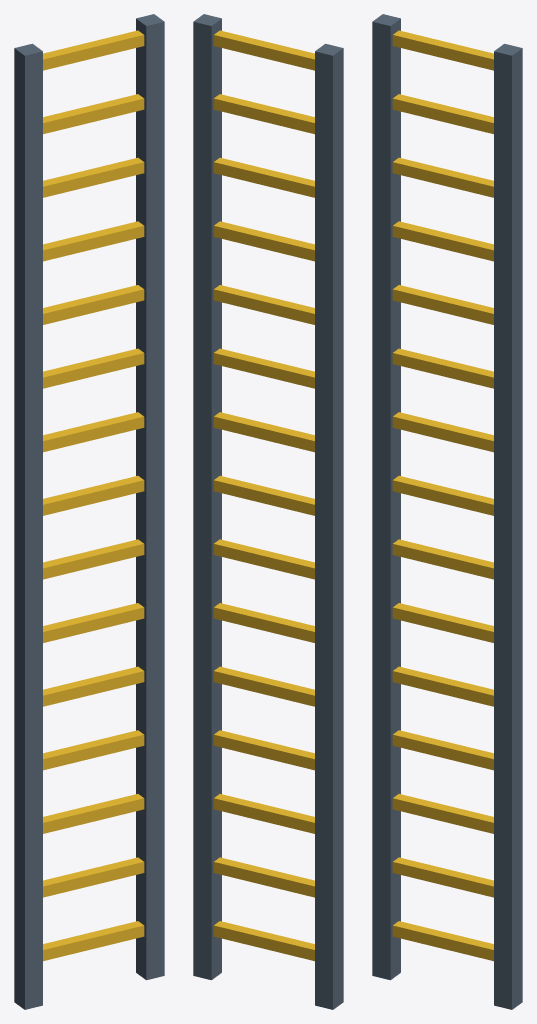
The model's file is robot_ladder_rungs.glb.
3 views of the same model, side by side, from view 1: azimuth 30°, elevation 25°; view 2: azimuth 150°, elevation 25°; view 3: azimuth 330°, elevation 25° (orthographic).
Visible parts, largest first — view 1: robot_ladder_rungs_steel, robot_ladder_rungs_yellow; view 2: robot_ladder_rungs_steel, robot_ladder_rungs_yellow; view 3: robot_ladder_rungs_steel, robot_ladder_rungs_yellow.
Part boxes in pixels (x1,y1,x2,y2): robot_ladder_rungs_steel: [14, 14, 164, 1009]; robot_ladder_rungs_yellow: [43, 30, 144, 961]; robot_ladder_rungs_steel: [193, 14, 343, 1009]; robot_ladder_rungs_yellow: [213, 30, 314, 961]; robot_ladder_rungs_steel: [372, 14, 522, 1009]; robot_ladder_rungs_yellow: [392, 30, 493, 961].
Size of the model in its own units: 0.92 by 6 by 0.12.
